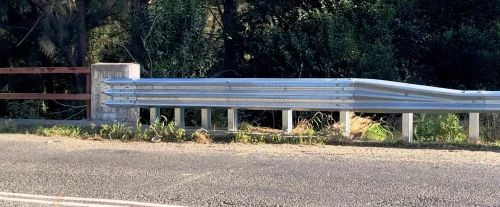damaged: (330, 73, 500, 126)
